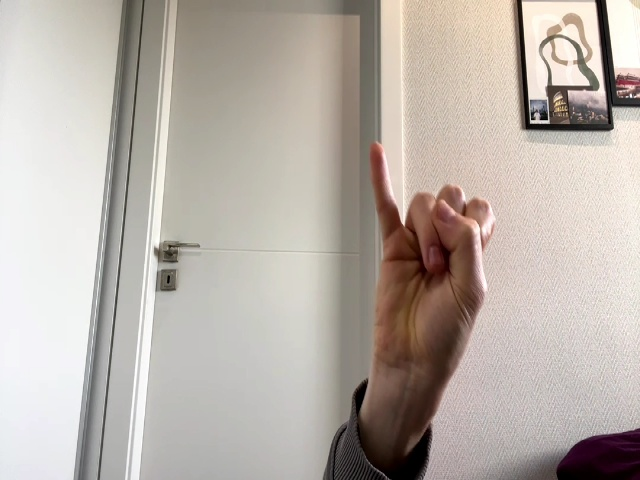I: (368, 141, 496, 356)
